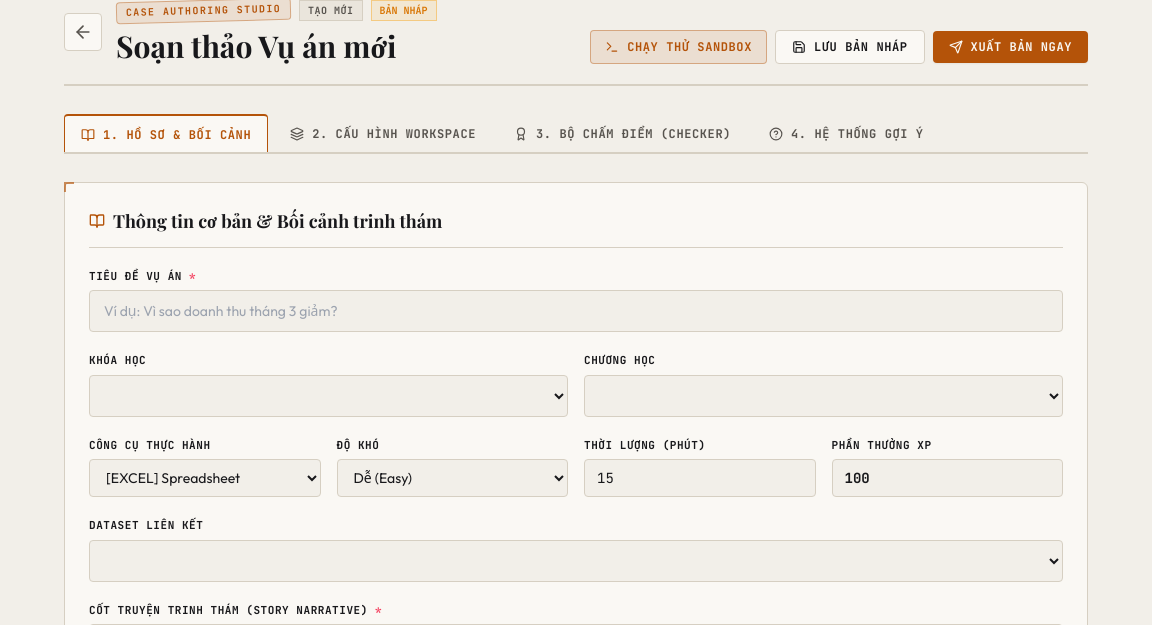
Test: AdminMissionEditorPage Component Tests › mở modal Sandbox Test Runner khi bấm nút "Chạy thử Sandbox"
Expected: the heading "Soạn thảo Vụ án mới" is shown, [116, 28, 436, 64]
Click the button "Chạy thử Sandbox" at (679, 47), box [590, 30, 767, 64]
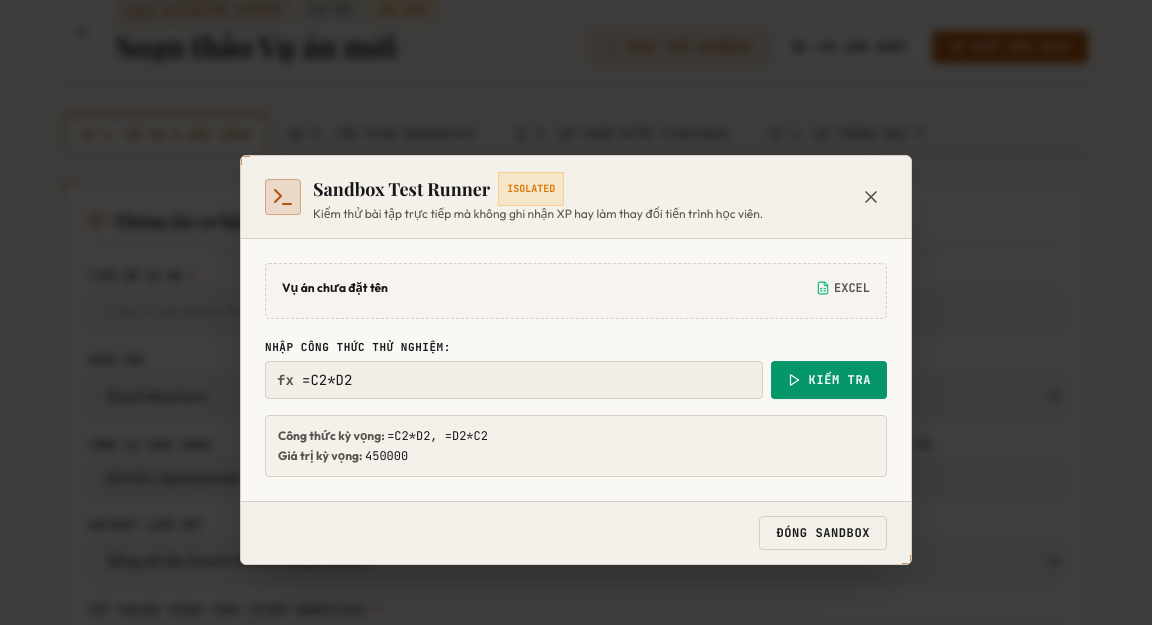
Expected: the heading "Sandbox Test Runner ISOLATED" is shown, [313, 172, 564, 206]
Expected: the text "ISOLATED" is shown, [498, 172, 564, 206]
Close modal
Click the button "Đóng Sandbox" at (823, 533), box [759, 516, 887, 550]
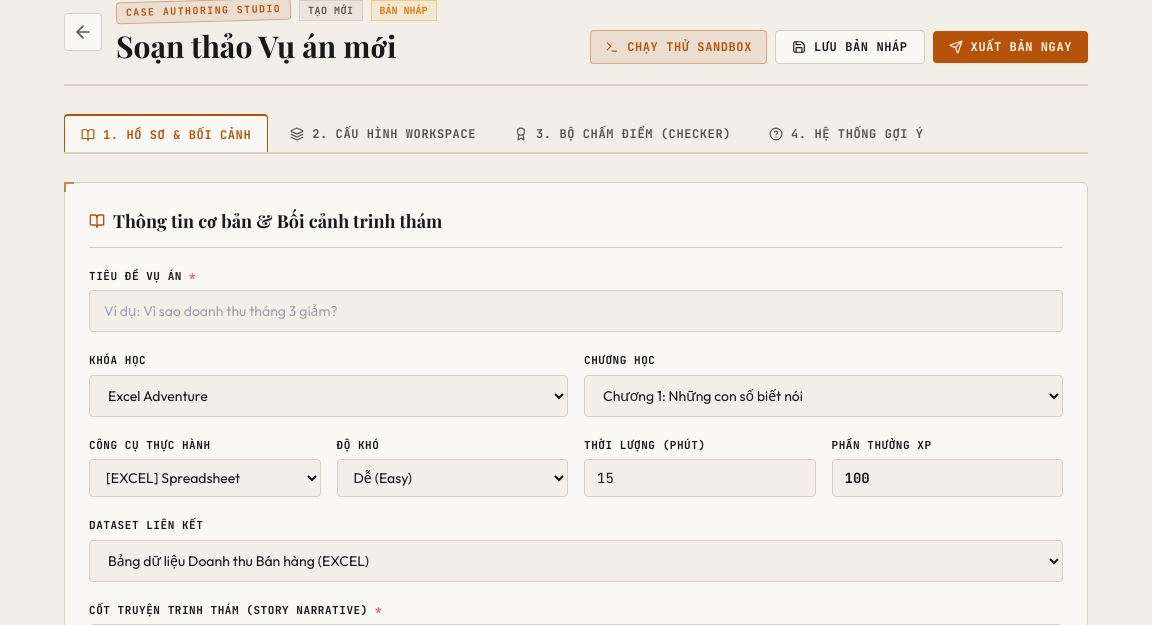
Expected: the heading "Sandbox Test Runner" is gone
